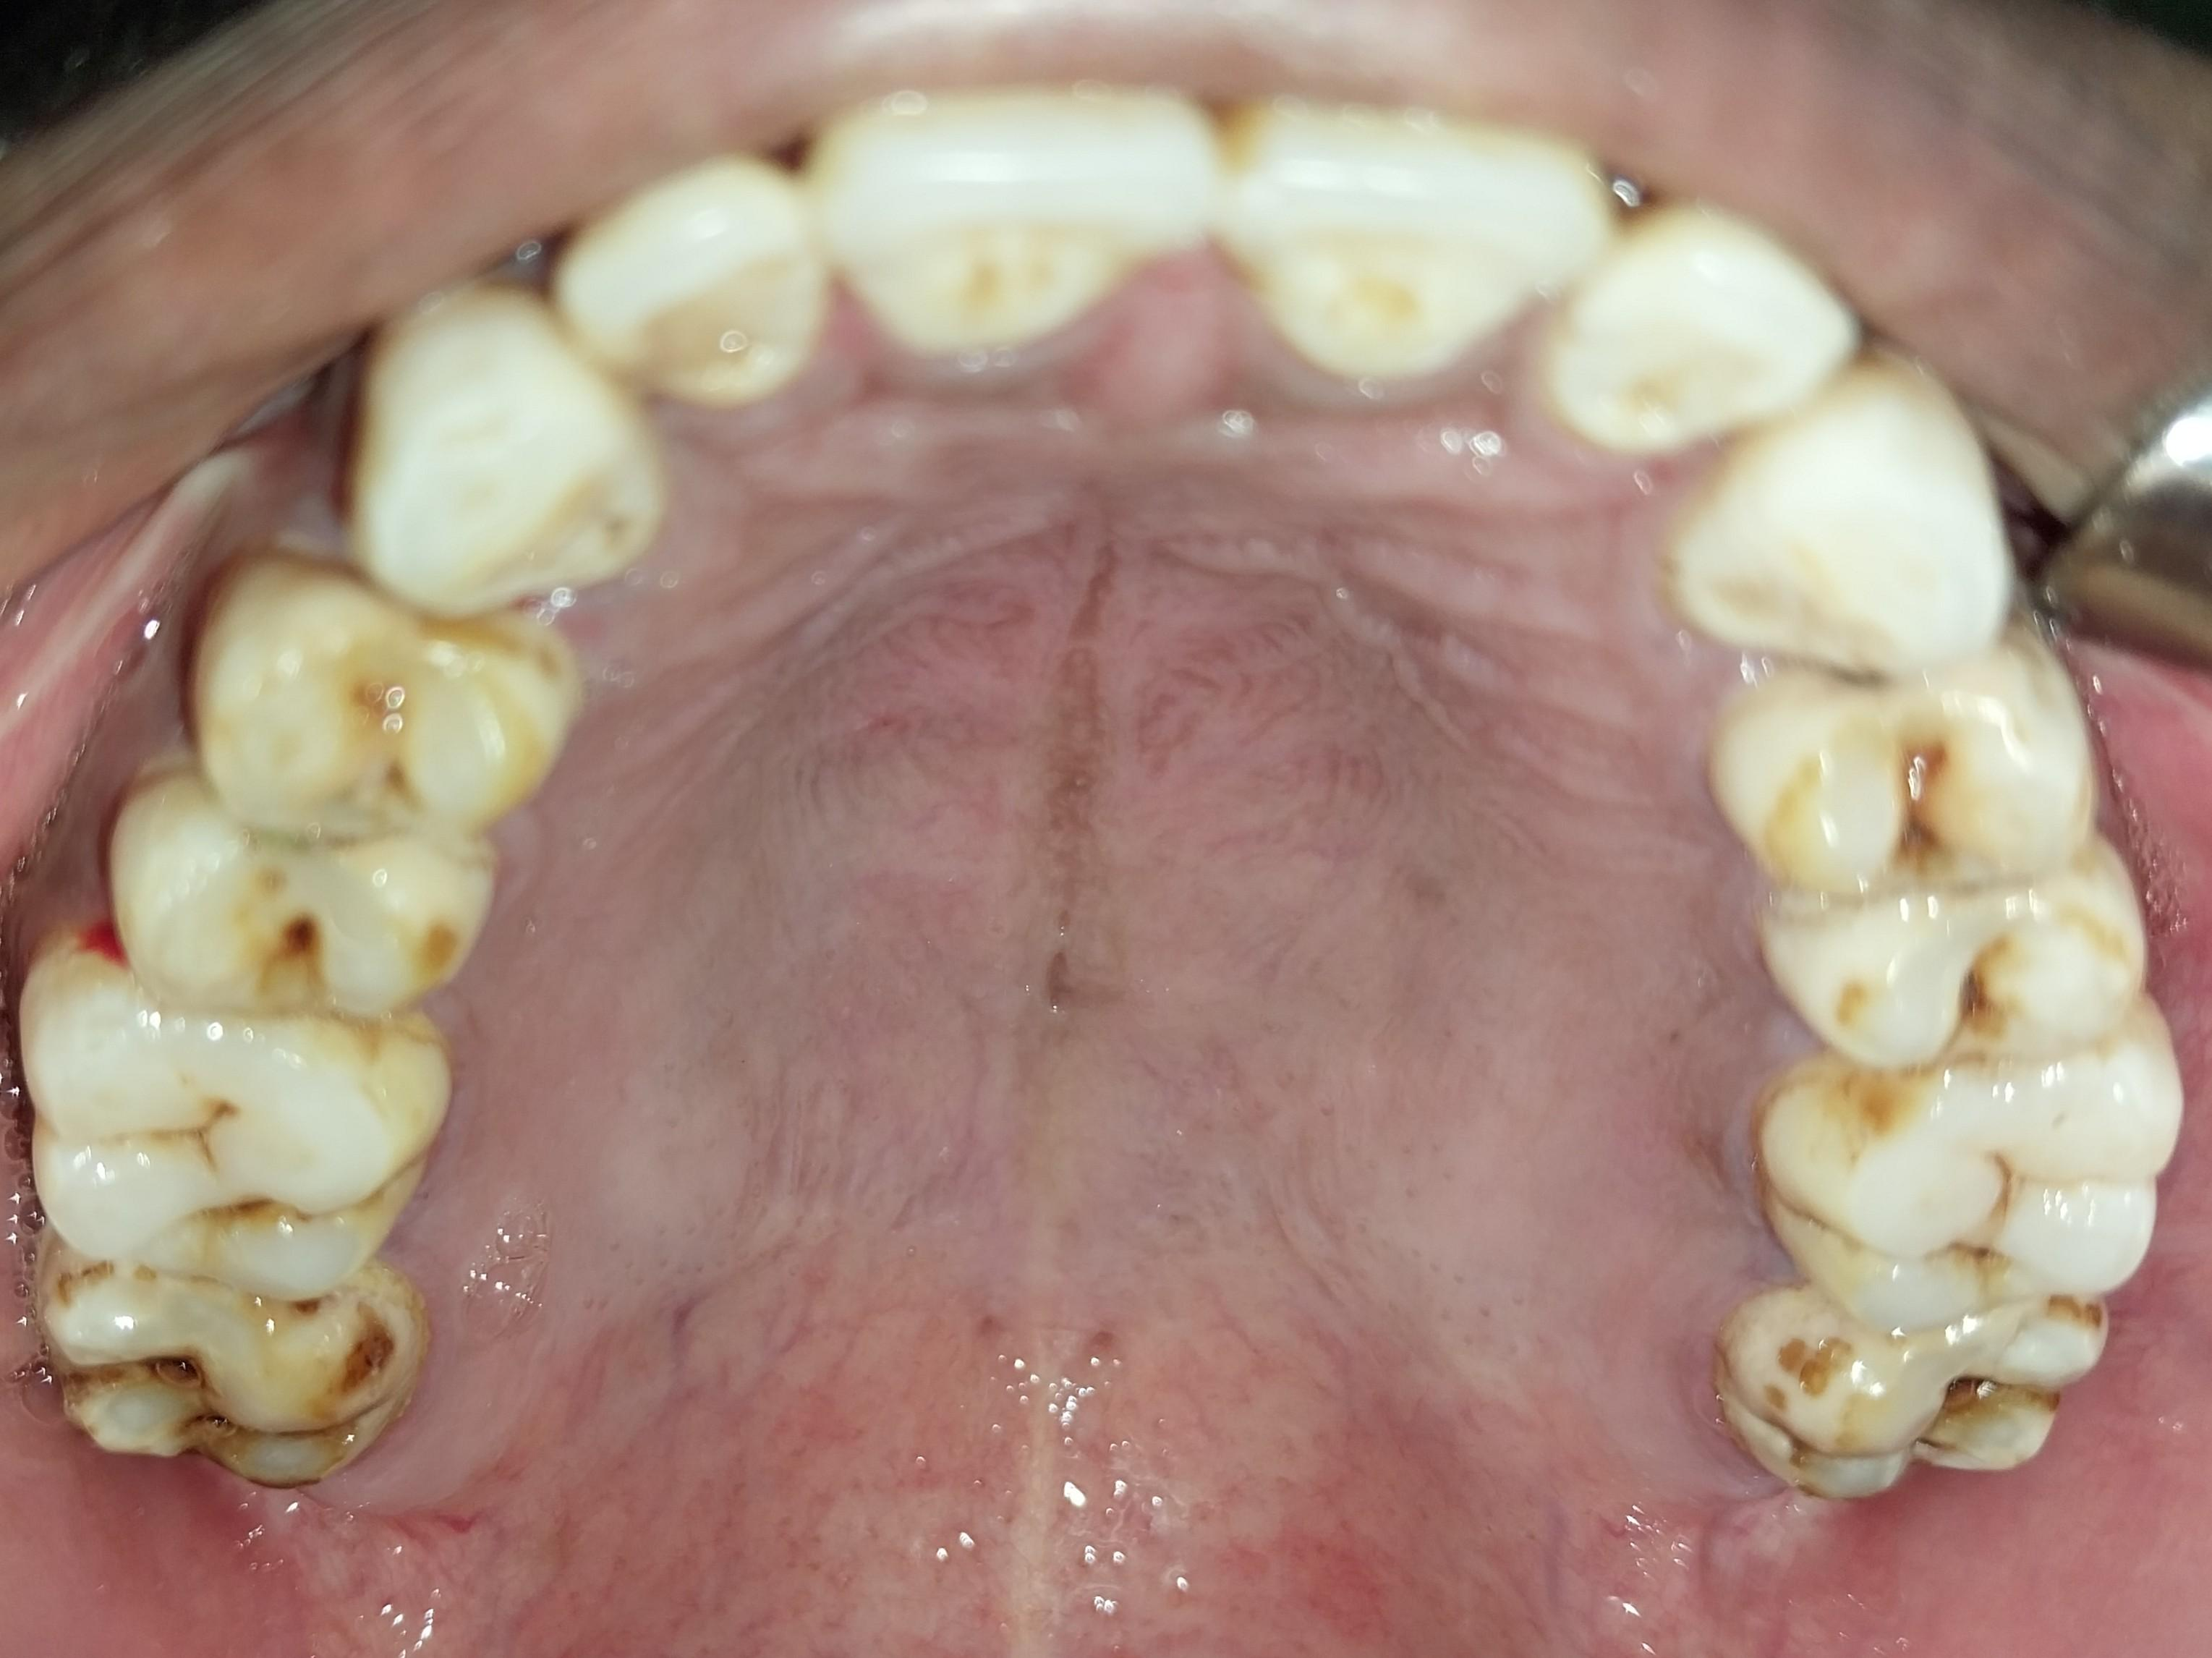D: (17, 944, 451, 1306), (1757, 1032, 2189, 1324), (14, 1231, 420, 1491), (103, 768, 503, 1019), (1747, 838, 2155, 1068), (1717, 1292, 2112, 1505)
